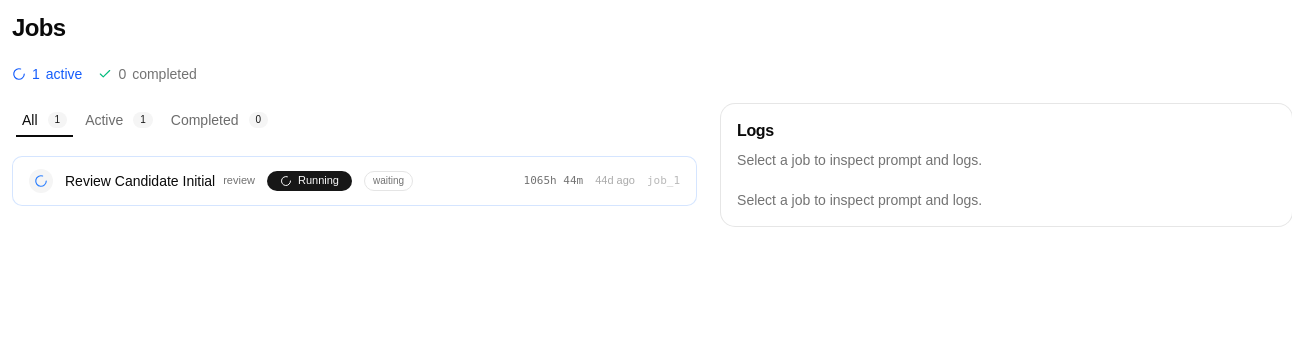
Test case: JobsPage › shows live log tabs and waiting state for a running job
Click the button "Review Candidate Initial" at (355, 181), box x1=12 y1=156 x2=697 y2=206
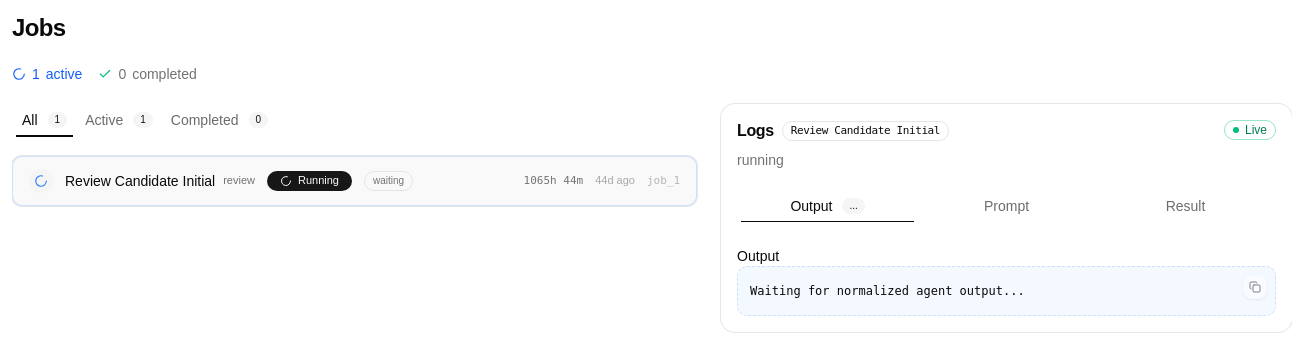
Expected: the icon "Live" is shown, x1=1224 y1=120 x2=1276 y2=140
Expected: the text "Waiting for normalized agent output..." is shown, x1=750 y1=284 x2=1025 y2=298
Expected: the tab "Result" is shown, x1=1098 y1=194 x2=1273 y2=218
